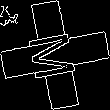M_E: (26, 27, 84, 83)
